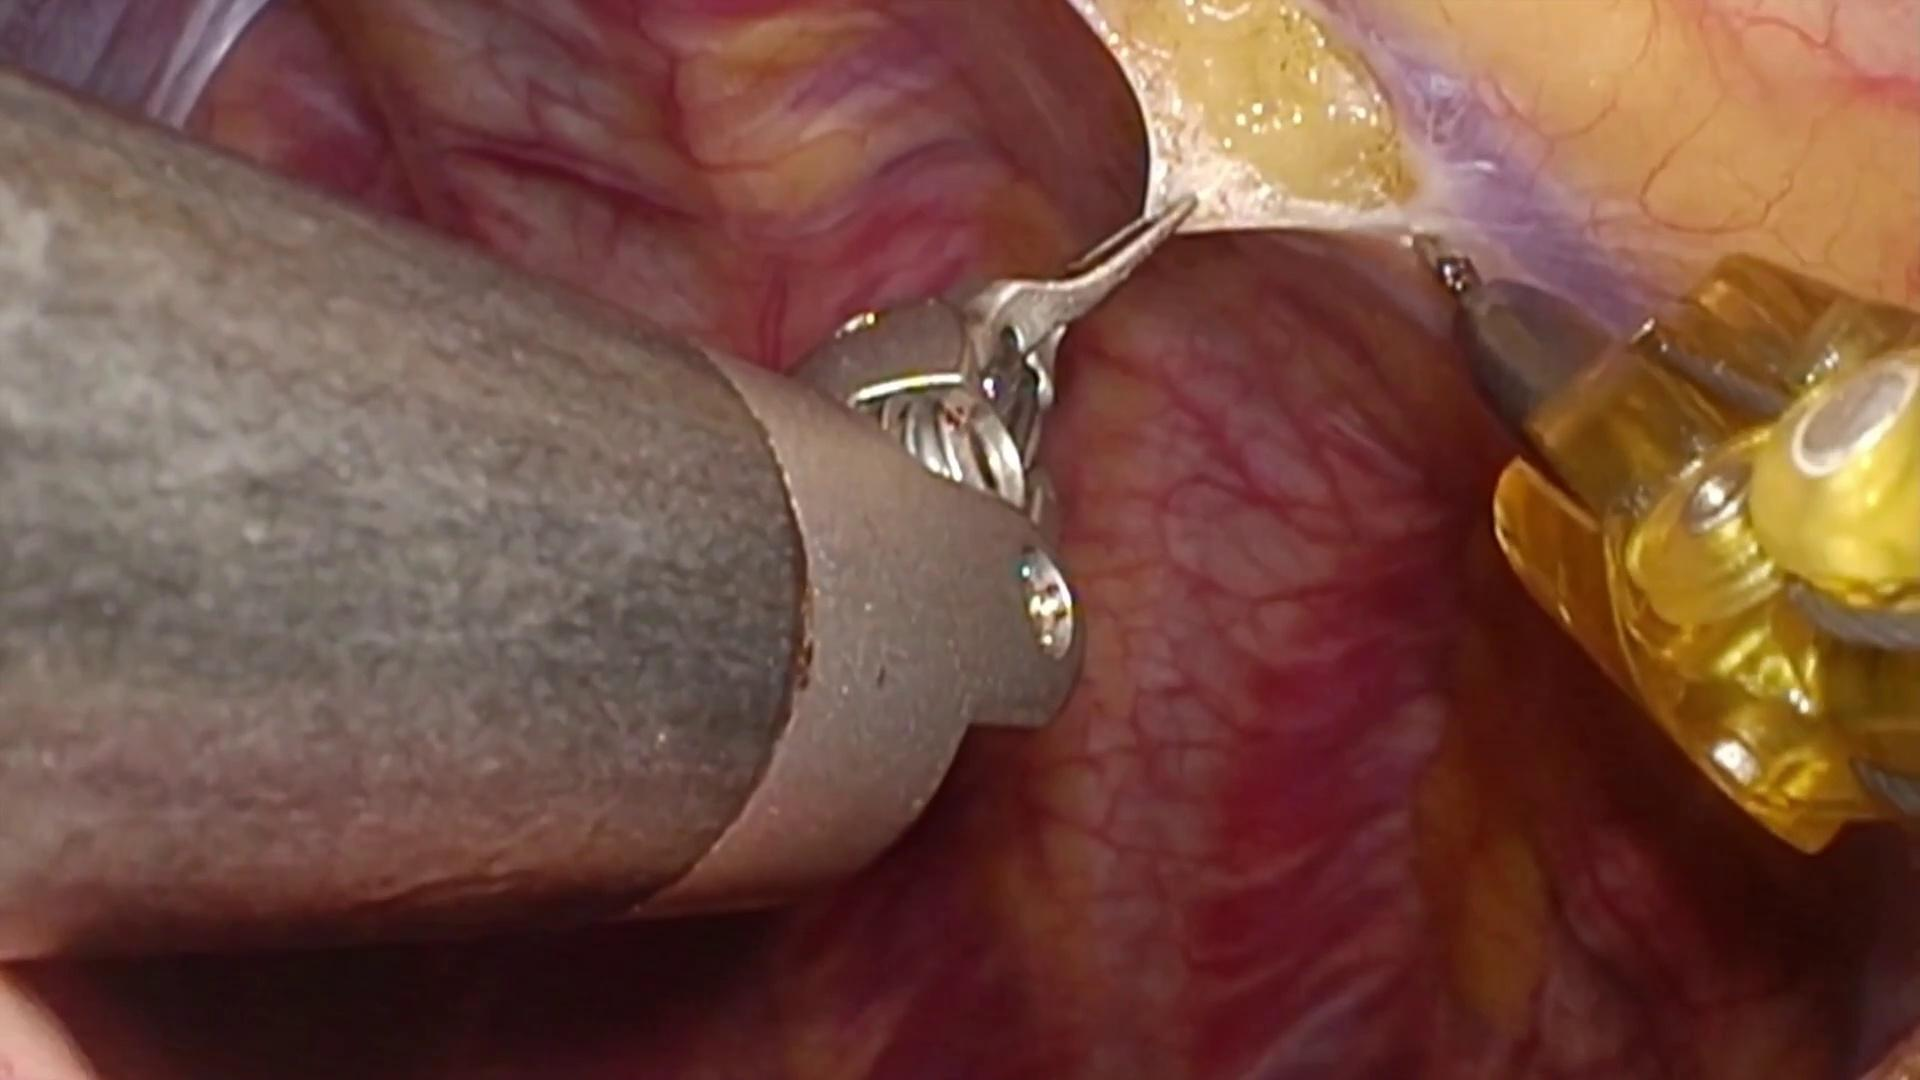Cautery_Spatula: (1398, 216, 1633, 430), (1400, 215, 1498, 311)
Debakey: (952, 183, 1201, 404)
